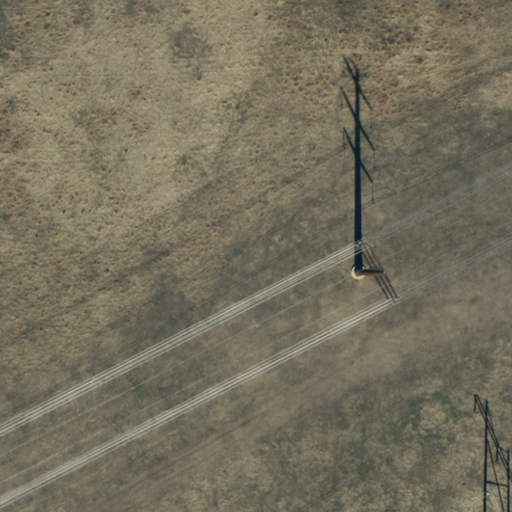TT: (345, 233, 405, 313)
